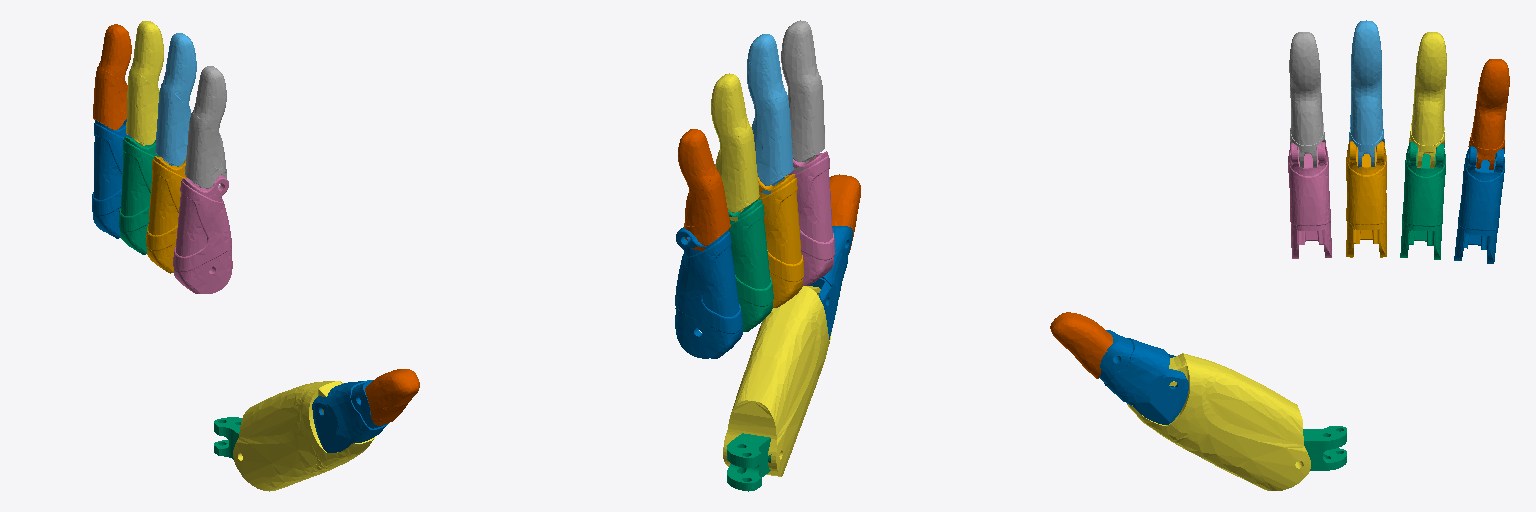
robot.urdf — inspire_hand_left:
<?xml version="1.0" encoding="utf-8"?>
<robot name="inspire_hand_left">
  <!--  joint limit reference: https://en.inspire-robots.com/-->
  <link name="base"/>
  <joint name="base_joint" type="fixed">
    <parent link="base"/>
    <child link="hand_base_link"/>
    <origin xyz="0 0 0" rpy="-1.5707963 0 3.14159"/>
  </joint>
  <link name="hand_base_link">
    <inertial>
      <origin xyz="-0.0025264 -0.066047 -0.0019598" rpy="0 0 0"/>
      <mass value="0.14143"/>
      <inertia ixx="0.00012281" ixy="2.1711E-06" ixz="1.7709E-06" iyy="8.3832E-05" iyz="-1.6551E-06" izz="7.6663E-05"/>
    </inertial>
    <visual>
      <origin xyz="0 0 0" rpy="0 0 0"/>
      <geometry>
        <mesh filename="package://hands/urdf/inspire/meshes/visual/left_base_link.obj"/>
      </geometry>
    </visual>
    <collision>
      <origin xyz="0 -0.0136 0" rpy="1.57079 0 0"/>
      <geometry>
        <cylinder length="0.0278" radius="0.028"/>
      </geometry>
    </collision>
    <collision>
      <origin xyz="-0.0032 -0.038 0" rpy="0 0 0"/>
      <geometry>
        <box size="0.0391 0.0202 0.0574"/>
      </geometry>
    </collision>
    <collision>
      <origin xyz="-0.0032 -0.0682 0" rpy="0 0 0"/>
      <geometry>
        <box size="0.0391 0.04 0.0814"/>
      </geometry>
    </collision>
    <collision>
      <origin xyz="0 -0.1081 0" rpy="0 0 0"/>
      <geometry>
        <box size="0.0322 0.04 0.0814"/>
      </geometry>
    </collision>
    <collision>
      <origin xyz="-0.0016 -0.1340 -0.0309" rpy="0 0 0"/>
      <geometry>
        <box size="0.0125 0.0111 0.0089"/>
      </geometry>
    </collision>
    <collision>
      <origin xyz="-0.0016 -0.1340 -0.0118" rpy="0 0 0"/>
      <geometry>
        <box size="0.0125 0.0111 0.0089"/>
      </geometry>
    </collision>
    <collision>
      <origin xyz="-0.0016 -0.1340 0.0070" rpy="0 0 0"/>
      <geometry>
        <box size="0.0125 0.0111 0.0089"/>
      </geometry>
    </collision>
    <collision>
      <origin xyz="-0.0016 -0.1340 0.0262" rpy="0 0 0"/>
      <geometry>
        <box size="0.0125 0.0111 0.0089"/>
      </geometry>
    </collision>
  </link>
  <link name="thumb_proximal_base">
    <inertial>
      <origin xyz="0.0048817 0.0009382 -0.00722" rpy="0 0 0"/>
      <mass value="0.0018869"/>
      <inertia ixx="5.816E-08" ixy="-1.4539E-08" ixz="-4.491E-09" iyy="7.9161E-08" iyz="-1.8727E-09" izz="6.7433E-08"/>
    </inertial>
    <visual>
      <origin xyz="0 0 0" rpy="0 0 0"/>
      <geometry>
        <mesh filename="package://hands/urdf/inspire/meshes/visual/left_thumb_proximal_base.obj"/>
      </geometry>
    </visual>
    <collision>
      <origin xyz="0 0 0" rpy="0 0 0"/>
      <geometry>
        <mesh filename="package://hands/urdf/inspire/meshes/collision/left_thumb_proximal_base.obj"/>
      </geometry>
    </collision>
  </link>
  <joint name="thumb_proximal_yaw_joint" type="revolute">
    <origin xyz="-0.01696 -0.0691 0.02045" rpy="1.5708 -1.5708 0"/>
    <parent link="hand_base_link"/>
    <child link="thumb_proximal_base"/>
    <axis xyz="0 0 1"/>
    <limit lower="0" upper="1.308" effort="1" velocity="0.5"/>
  </joint>
  <link name="thumb_proximal">
    <inertial>
      <origin xyz="0.021932 -0.012785 -0.0080386" rpy="0 0 0"/>
      <mass value="0.0066075"/>
      <inertia ixx="1.5686E-06" ixy="7.8296E-07" ixz="8.9143E-10" iyy="1.7353E-06" iyz="1.0191E-09" izz="2.786E-06"/>
    </inertial>
    <visual>
      <origin xyz="0 0 0" rpy="0 0 0"/>
      <geometry>
        <mesh filename="package://hands/urdf/inspire/meshes/visual/left_thumb_proximal.obj"/>
      </geometry>
    </visual>
    <collision>
      <origin xyz="0 0 0" rpy="0 0 0"/>
      <geometry>
        <mesh filename="package://hands/urdf/inspire/meshes/collision/left_thumb_proximal.obj"/>
      </geometry>
    </collision>
  </link>
  <joint name="thumb_proximal_pitch_joint" type="revolute">
    <origin xyz="0.0099867 0.0098242 -0.0089" rpy="-1.5708 0 0.16939"/>
    <parent link="thumb_proximal_base"/>
    <child link="thumb_proximal"/>
    <axis xyz="0 0 -1"/>
    <limit lower="0" upper="0.6" effort="1" velocity="0.5"/>
  </joint>
  <link name="thumb_intermediate">
    <inertial>
      <origin xyz="0.0095544 0.0016282 -0.0071997" rpy="0 0 0"/>
      <mass value="0.0037847"/>
      <inertia ixx="3.6981E-07" ixy="9.8581E-08" ixz="-4.7469E-12" iyy="3.2394E-07" iyz="-1.0939E-12" izz="4.6531E-07"/>
    </inertial>
    <visual>
      <origin xyz="0 0 0" rpy="0 0 0"/>
      <geometry>
        <mesh filename="package://hands/urdf/inspire/meshes/visual/left_thumb_intermediate.obj"/>
      </geometry>
    </visual>
    <collision>
      <origin xyz="0 0 0" rpy="0 0 0"/>
      <geometry>
        <mesh filename="package://hands/urdf/inspire/meshes/collision/left_thumb_intermediate.obj"/>
      </geometry>
    </collision>
  </link>
  <joint name="thumb_intermediate_joint" type="revolute">
    <origin xyz="0.04407 -0.034553 -0.0008" rpy="0 0 0"/>
    <parent link="thumb_proximal"/>
    <child link="thumb_intermediate"/>
    <axis xyz="0 0 -1"/>
    <limit lower="0" upper="0.8" effort="1" velocity="0.5"/>
    <mimic joint="thumb_proximal_pitch_joint" multiplier="1.334" offset="0"/>
  </joint>
  <link name="thumb_distal">
    <inertial>
      <origin xyz="0.0092888 -0.0049529 -0.0060033" rpy="0 0 0"/>
      <mass value="0.0033441"/>
      <inertia ixx="1.3632E-07" ixy="5.6788E-08" ixz="-9.2764E-11" iyy="1.4052E-07" iyz="1.2283E-10" izz="2.0026E-07"/>
    </inertial>
    <visual>
      <origin xyz="0 0 0" rpy="0 0 0"/>
      <geometry>
        <mesh filename="package://hands/urdf/inspire/meshes/visual/left_thumb_distal.obj"/>
      </geometry>
    </visual>
    <collision>
      <origin xyz="0 0 0" rpy="0 0 0"/>
      <geometry>
        <mesh filename="package://hands/urdf/inspire/meshes/collision/left_thumb_distal.obj" scale="1 1 1"/>
      </geometry>
    </collision>
  </link>
  <joint name="thumb_distal_joint" type="revolute">
    <origin xyz="0.020248 -0.010156 -0.0012" rpy="0 0 0"/>
    <parent link="thumb_intermediate"/>
    <child link="thumb_distal"/>
    <axis xyz="0 0 -1"/>
    <limit lower="0" upper="0.4" effort="1" velocity="0.5"/>
    <mimic joint="thumb_proximal_pitch_joint" multiplier="0.667" offset="0"/>
  </joint>
  <link name="index_proximal">
    <inertial>
      <origin xyz="0.0012259 -0.011942 -0.0060001" rpy="0 0 0"/>
      <mass value="0.0042403"/>
      <inertia ixx="6.6232E-07" ixy="1.5775E-08" ixz="1.8515E-12" iyy="2.1146E-07" iyz="5.0828E-12" izz="6.9398E-07"/>
    </inertial>
    <visual>
      <origin xyz="0 0 0" rpy="0 0 0"/>
      <geometry>
        <mesh filename="package://hands/urdf/inspire/meshes/visual/left_index_proximal.obj"/>
      </geometry>
    </visual>
    <collision>
      <origin xyz="0 0 0" rpy="0 0 0"/>
      <geometry>
        <mesh filename="package://hands/urdf/inspire/meshes/collision/left_index_proximal.obj"/>
      </geometry>
    </collision>
  </link>
  <joint name="index_proximal_joint" type="revolute">
    <origin xyz="0.00028533 -0.13653 0.032268" rpy="-0.034907 0 0"/>
    <parent link="hand_base_link"/>
    <child link="index_proximal"/>
    <axis xyz="0 0 -1"/>
    <limit lower="0" upper="1.47" effort="1" velocity="0.5"/>
  </joint>
  <link name="index_intermediate">
    <inertial>
      <origin xyz="0.0019697 -0.019589 -0.005" rpy="0 0 0"/>
      <mass value="0.0045683"/>
      <inertia ixx="7.6111E-07" ixy="-8.7637E-08" ixz="-3.7751E-13" iyy="9.6076E-08" iyz="-9.9444E-13" izz="7.8179E-07"/>
    </inertial>
    <visual>
      <origin xyz="0 0 0" rpy="0 0 0"/>
      <geometry>
        <mesh filename="package://hands/urdf/inspire/meshes/visual/left_index_intermediate.obj"/>
      </geometry>
    </visual>
    <collision>
      <origin xyz="0 0 0" rpy="0 0 0"/>
      <geometry>
        <mesh filename="package://hands/urdf/inspire/meshes/collision/left_index_intermediate.obj"/>
      </geometry>
    </collision>
  </link>
  <joint name="index_intermediate_joint" type="revolute">
    <origin xyz="-0.0026138 -0.032026 -0.001" rpy="0 0 0"/>
    <parent link="index_proximal"/>
    <child link="index_intermediate"/>
    <axis xyz="0 0 -1"/>
    <limit lower="-0.04545" upper="1.56" effort="1" velocity="0.5"/>
    <mimic joint="index_proximal_joint" multiplier="1.06399" offset="-0.04545"/>
  </joint>
  <link name="middle_proximal">
    <inertial>
      <origin xyz="0.001297 -0.011934 -0.0060001" rpy="0 0 0"/>
      <mass value="0.0042403"/>
      <inertia ixx="6.6211E-07" ixy="1.8461E-08" ixz="1.8002E-12" iyy="2.1167E-07" iyz="6.6808E-12" izz="6.9397E-07"/>
    </inertial>
    <visual>
      <origin xyz="0 0 0" rpy="0 0 0"/>
      <geometry>
        <mesh filename="package://hands/urdf/inspire/meshes/visual/left_index_proximal.obj"/>
      </geometry>
    </visual>
    <collision>
      <origin xyz="0 0 0" rpy="0 0 0"/>
      <geometry>
        <mesh filename="package://hands/urdf/inspire/meshes/collision/left_index_proximal.obj"/>
      </geometry>
    </collision>
  </link>
  <joint name="middle_proximal_joint" type="revolute">
    <origin xyz="0.00028533 -0.1371 0.01295" rpy="0 0 0"/>
    <parent link="hand_base_link"/>
    <child link="middle_proximal"/>
    <axis xyz="0 0 -1"/>
    <limit lower="0" upper="1.47" effort="1" velocity="0.5"/>
  </joint>
  <link name="middle_intermediate">
    <inertial>
      <origin xyz="0.001921 -0.020796 -0.005" rpy="0 0 0"/>
      <mass value="0.0050396"/>
      <inertia ixx="9.5822E-07" ixy="-1.1425E-07" ixz="-2.4791E-12" iyy="1.0646E-07" iyz="-5.9173E-12" izz="9.8384E-07"/>
    </inertial>
    <visual>
      <origin xyz="0 0 0" rpy="0 0 0"/>
      <geometry>
        <mesh filename="package://hands/urdf/inspire/meshes/visual/left_middle_intermediate.obj"/>
      </geometry>
    </visual>
    <collision>
      <origin xyz="0 0 0" rpy="0 0 0"/>
      <geometry>
        <mesh filename="package://hands/urdf/inspire/meshes/collision/left_middle_intermediate.obj"/>
      </geometry>
    </collision>
  </link>
  <joint name="middle_intermediate_joint" type="revolute">
    <origin xyz="-0.0024229 -0.032041 -0.001" rpy="0 0 0"/>
    <parent link="middle_proximal"/>
    <child link="middle_intermediate"/>
    <axis xyz="0 0 -1"/>
    <limit lower="-0.04545" upper="1.56" effort="1" velocity="0.5"/>
    <mimic joint="middle_proximal_joint" multiplier="1.06399" offset="-0.04545"/>
  </joint>
  <link name="ring_proximal">
    <inertial>
      <origin xyz="0.001297 -0.011934 -0.0060002" rpy="0 0 0"/>
      <mass value="0.0042403"/>
      <inertia ixx="6.6211E-07" ixy="1.8461E-08" ixz="1.5793E-12" iyy="2.1167E-07" iyz="6.6868E-12" izz="6.9397E-07"/>
    </inertial>
    <visual>
      <origin xyz="0 0 0" rpy="0 0 0"/>
      <geometry>
        <mesh filename="package://hands/urdf/inspire/meshes/visual/left_index_proximal.obj"/>
      </geometry>
    </visual>
    <collision>
      <origin xyz="0 0 0" rpy="0 0 0"/>
      <geometry>
        <mesh filename="package://hands/urdf/inspire/meshes/collision/left_index_proximal.obj"/>
      </geometry>
    </collision>
  </link>
  <joint name="ring_proximal_joint" type="revolute">
    <origin xyz="0.00028533 -0.13691 -0.0062872" rpy="0.05236 0 0"/>
    <parent link="hand_base_link"/>
    <child link="ring_proximal"/>
    <axis xyz="0 0 -1"/>
    <limit lower="0" upper="1.47" effort="1" velocity="0.5"/>
  </joint>
  <link name="ring_intermediate">
    <inertial>
      <origin xyz="0.0021753 -0.019567 -0.005" rpy="0 0 0"/>
      <mass value="0.0045683"/>
      <inertia ixx="7.6286E-07" ixy="-8.0635E-08" ixz="-6.1562E-13" iyy="9.431E-08" iyz="-5.8619E-13" izz="7.8177E-07"/>
    </inertial>
    <visual>
      <origin xyz="0 0 0" rpy="0 0 0"/>
      <geometry>
        <mesh filename="package://hands/urdf/inspire/meshes/visual/left_index_intermediate.obj"/>
      </geometry>
    </visual>
    <collision>
      <origin xyz="0 0 0" rpy="0 0 0"/>
      <geometry>
        <mesh filename="package://hands/urdf/inspire/meshes/collision/left_index_intermediate.obj"/>
      </geometry>
    </collision>
  </link>
  <joint name="ring_intermediate_joint" type="revolute">
    <origin xyz="-0.0024229 -0.032041 -0.001" rpy="0 0 0"/>
    <parent link="ring_proximal"/>
    <child link="ring_intermediate"/>
    <axis xyz="0 0 -1"/>
    <limit lower="-0.04545" upper="1.56" effort="1" velocity="0.5"/>
    <mimic joint="ring_proximal_joint" multiplier="1.06399" offset="-0.04545"/>
  </joint>
  <link name="pinky_proximal">
    <inertial>
      <origin xyz="0.001297 -0.011934 -0.0060001" rpy="0 0 0"/>
      <mass value="0.0042403"/>
      <inertia ixx="6.6211E-07" ixy="1.8461E-08" ixz="1.6907E-12" iyy="2.1167E-07" iyz="6.9334E-12" izz="6.9397E-07"/>
    </inertial>
    <visual>
      <origin xyz="0 0 0" rpy="0 0 0"/>
      <geometry>
        <mesh filename="package://hands/urdf/inspire/meshes/visual/left_index_proximal.obj"/>
      </geometry>
    </visual>
    <collision>
      <origin xyz="0 0 0" rpy="0 0 0"/>
      <geometry>
        <mesh filename="package://hands/urdf/inspire/meshes/collision/left_index_proximal.obj"/>
      </geometry>
    </collision>
  </link>
  <joint name="pinky_proximal_joint" type="revolute">
    <origin xyz="0.00028533 -0.13571 -0.025488" rpy="0.10472 0 0"/>
    <parent link="hand_base_link"/>
    <child link="pinky_proximal"/>
    <axis xyz="0 0 -1"/>
    <limit lower="0" upper="1.47" effort="1" velocity="0.5"/>
  </joint>
  <link name="pinky_intermediate">
    <inertial>
      <origin xyz="0.0024748 -0.016203 -0.0050031" rpy="0 0 0"/>
      <mass value="0.0035996"/>
      <inertia ixx="4.3913E-07" ixy="-4.1418E-08" ixz="3.7168E-11" iyy="7.0247E-08" iyz="-5.8613E-11" izz="4.4867E-07"/>
    </inertial>
    <visual>
      <origin xyz="0 0 0" rpy="0 0 0"/>
      <geometry>
        <mesh filename="package://hands/urdf/inspire/meshes/visual/left_pinky_intermediate.obj"/>
      </geometry>
    </visual>
    <collision>
      <origin xyz="0 0 0" rpy="0 0 0"/>
      <geometry>
        <mesh filename="package://hands/urdf/inspire/meshes/collision/left_pinky_intermediate.obj"/>
      </geometry>
    </collision>
  </link>
  <joint name="pinky_intermediate_joint" type="revolute">
    <origin xyz="-0.0024229 -0.032041 -0.001" rpy="0 0 0"/>
    <parent link="pinky_proximal"/>
    <child link="pinky_intermediate"/>
    <axis xyz="0 0 -1"/>
    <limit lower="-0.04545" upper="1.56" effort="1" velocity="0.5"/>
    <mimic joint="pinky_proximal_joint" multiplier="1.06399" offset="-0.04545"/>
  </joint>

  <link name='thumb_tip'/>
  <joint name="thumb_tip_joint" type="fixed">
    <origin xyz="0.0202 -0.0140 -0.006" rpy="0 0 0"/>
    <parent link="thumb_distal"/>
    <child link="thumb_tip"/>
  </joint>
  <link name='index_tip'/>
  <joint name="index_tip_joint" type="fixed">
    <origin xyz="-0.0008 -0.045 -0.005" rpy="0 0 0"/>
    <parent link="index_intermediate"/>
    <child link="index_tip"/>
  </joint>
  <link name='middle_tip'/>
  <joint name="middle_tip_joint" type="fixed">
    <origin xyz="-0.001 -0.048 -0.005" rpy="0 0 0"/>
    <parent link="middle_intermediate"/>
    <child link="middle_tip"/>
  </joint>
  <link name='ring_tip'/>
  <joint name="ring_tip_joint" type="fixed">
    <origin xyz="-0.0008 -0.045 -0.005" rpy="0 0 0"/>
    <parent link="ring_intermediate"/>
    <child link="ring_tip"/>
  </joint>
  <link name='pinky_tip'/>
  <joint name="pinky_tip_joint" type="fixed">
    <origin xyz="-0.0008 -0.037 -0.005" rpy="0 0 0"/>
    <parent link="pinky_intermediate"/>
    <child link="pinky_tip"/>
  </joint>
</robot>

--- What the picture shows (computed from the rendered views, not written in the file) ---
Views: 3 orthographic renders of the robot side by side, from view 1: azimuth 30°, elevation 25°; view 2: azimuth 150°, elevation 25°; view 3: azimuth 270°, elevation 25°.
Robot: inspire_hand_left — 19 links, 18 joints (12 revolute, 6 fixed); root link base; default pose: all joints at 0.
Links seen in each view (by area): view 1: thumb_proximal, index_proximal, middle_intermediate, index_intermediate, ring_intermediate, thumb_intermediate, ring_proximal, middle_proximal, pinky_proximal, pinky_intermediate, thumb_distal, thumb_proximal_base; view 2: thumb_proximal, pinky_proximal, middle_intermediate, ring_intermediate, index_intermediate, middle_proximal, ring_proximal, pinky_intermediate, index_proximal, thumb_proximal_base, thumb_intermediate, thumb_distal; view 3: thumb_proximal, thumb_intermediate, middle_intermediate, pinky_proximal, middle_proximal, ring_proximal, index_proximal, ring_intermediate, index_intermediate, pinky_intermediate, thumb_distal, thumb_proximal_base.
Link boxes in pixels (x1,y1,x2,y2): thumb_proximal: (233, 381, 375, 491); index_proximal: (173, 175, 232, 293); middle_intermediate: (155, 33, 196, 166); index_intermediate: (185, 66, 226, 188); ring_intermediate: (126, 21, 163, 145); thumb_intermediate: (312, 380, 388, 452); ring_proximal: (119, 136, 159, 254); middle_proximal: (146, 156, 187, 273); pinky_proximal: (92, 119, 131, 238); pinky_intermediate: (93, 24, 131, 129); thumb_distal: (365, 369, 419, 425); thumb_proximal_base: (214, 417, 241, 459); thumb_proximal: (723, 286, 831, 476); pinky_proximal: (675, 227, 742, 358); middle_intermediate: (747, 34, 793, 194); ring_intermediate: (711, 73, 759, 221); index_intermediate: (781, 20, 824, 170); middle_proximal: (757, 174, 803, 307); ring_proximal: (728, 199, 773, 331); pinky_intermediate: (678, 129, 730, 250); index_proximal: (788, 151, 834, 285); thumb_proximal_base: (727, 433, 771, 491); thumb_intermediate: (809, 226, 852, 339); thumb_distal: (830, 174, 860, 252); thumb_proximal: (1127, 353, 1310, 490); thumb_intermediate: (1099, 330, 1188, 424); middle_intermediate: (1349, 20, 1384, 167); pinky_proximal: (1454, 146, 1504, 263); middle_proximal: (1346, 141, 1386, 257); ring_proximal: (1400, 142, 1445, 259); index_proximal: (1288, 142, 1331, 258); ring_intermediate: (1409, 32, 1446, 167); index_intermediate: (1289, 32, 1325, 167); pinky_intermediate: (1468, 59, 1509, 169); thumb_distal: (1050, 312, 1112, 378); thumb_proximal_base: (1303, 426, 1346, 470).
Size in the robot's own frame: 0.0508 by 0.1602 by 0.169 metres.
12 mesh visuals loaded from 9 distinct referenced files (8 OBJ); not drawn: 1 (reference not matched to a file when rendering).
